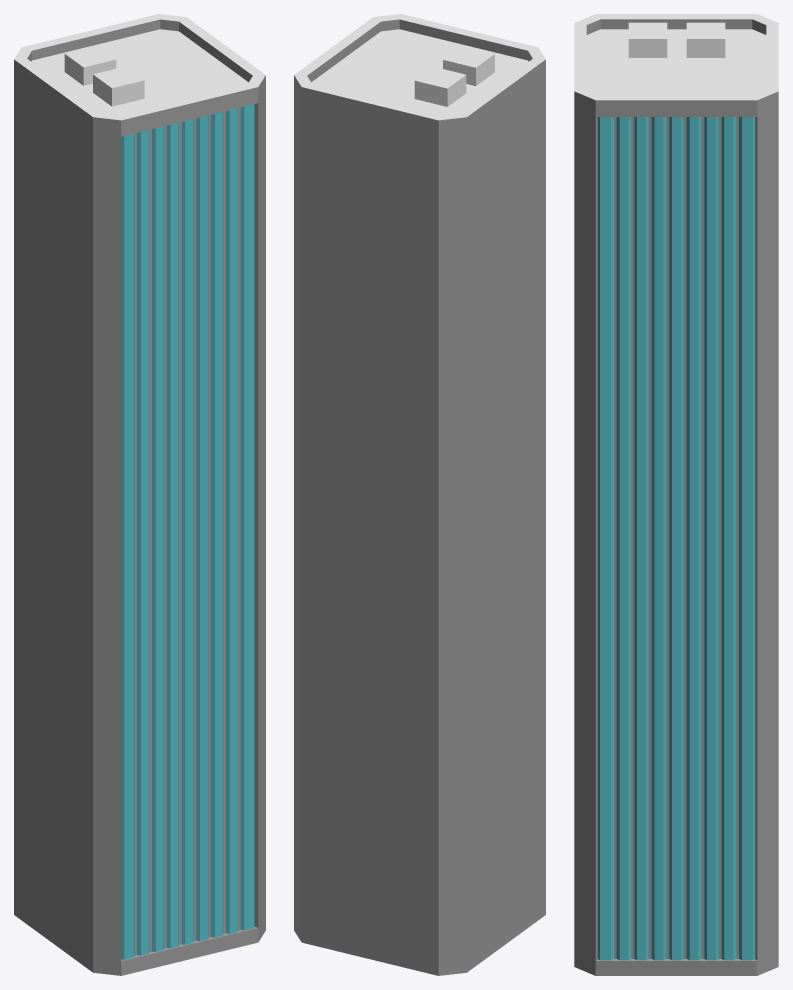
The model's file is Town_Bld-Lrg_BuildingF.FBX.
3 renders of one model, left to right at view 1: azimuth 30°, elevation 25°; view 2: azimuth 150°, elevation 25°; view 3: azimuth 270°, elevation 25°, orthographic. The views are drawn at different scales.
Visible parts, largest first — view 1: Town_Bld-Lrg_BuildingF; view 2: Town_Bld-Lrg_BuildingF; view 3: Town_Bld-Lrg_BuildingF.
Part boxes in pixels (x1,y1,x2,y2): Town_Bld-Lrg_BuildingF: (14,14,265,975); Town_Bld-Lrg_BuildingF: (294,14,545,975); Town_Bld-Lrg_BuildingF: (574,14,778,975).
Size of the model in its own units: 1200 by 5734 by 1200.
